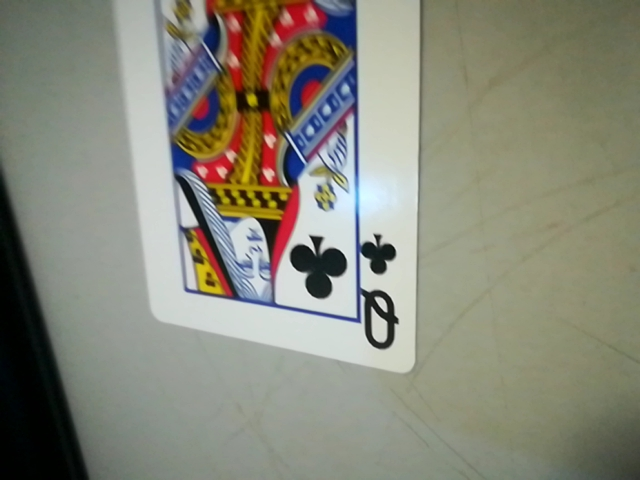mh q: (352, 226, 413, 364)
